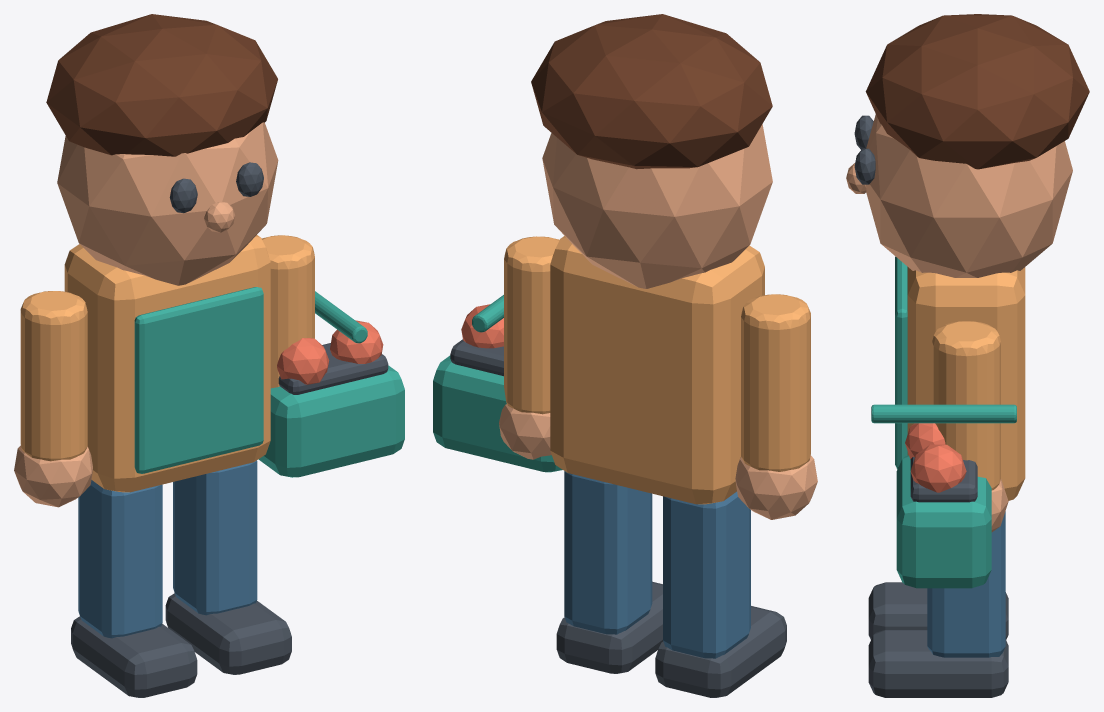
The model's file is customer_3d.fbx.
3 views of the same model, side by side, from view 1: azimuth 30°, elevation 25°; view 2: azimuth 150°, elevation 25°; view 3: azimuth 270°, elevation 25° (orthographic). The views are drawn at different scales.
Visible parts, largest first — view 1: Hair, Face, Apron, Torso, Leg_Left, Leg_Right, BasketBody, Arm_Left, Shoe_Left, Shoe_Right, Arm_Right, Hand_Left (+7 smaller); view 2: Torso, Hair, Face, Leg_Left, Leg_Right, Arm_Left, Arm_Right, BasketBody, Shoe_Left, Shoe_Right, Hand_Left, Hand_Right (+3 smaller); view 3: Hair, Face, Torso, BasketBody, Arm_Right, Shoe_Right, Leg_Right, Shoe_Left, BasketHandle, Apron, BasketApple, BasketOpening (+4 smaller).
Boxes of the visible parts, x1,y1,x2,y2 form: Hair: (46,14,277,156); Face: (57,122,278,285); Apron: (134,287,263,473); Torso: (64,235,270,492); Leg_Left: (78,480,162,638); Leg_Right: (173,460,257,615); BasketBody: (258,365,404,477); Arm_Left: (20,291,87,461); Shoe_Left: (71,616,197,697); Shoe_Right: (165,593,291,674); Arm_Right: (261,235,314,388); Hand_Left: (14,445,92,507); Torso: (550,236,764,504); Hair: (531,14,772,169); Face: (542,124,772,288); Leg_Left: (663,491,750,658); Leg_Right: (564,471,652,634); Arm_Left: (741,294,810,471); Arm_Right: (504,236,559,414); BasketBody: (433,355,562,472); Shoe_Left: (655,606,786,697); Shoe_Right: (556,581,662,673); Hand_Left: (735,455,817,519); Hand_Right: (499,404,551,459); Hair: (865,14,1089,169); Face: (866,114,1072,277); Torso: (907,267,1025,500); BasketBody: (896,455,991,588); Arm_Right: (932,321,1000,490); Shoe_Right: (868,630,1008,697); Leg_Right: (927,511,1005,657); Shoe_Left: (868,582,1008,639); BasketHandle: (871,404,1016,423); Apron: (895,256,907,469); BasketApple: (910,444,966,492); BasketOpening: (910,457,977,502).
Size of the model in its own units: 1.51 by 2.5 by 0.87.
